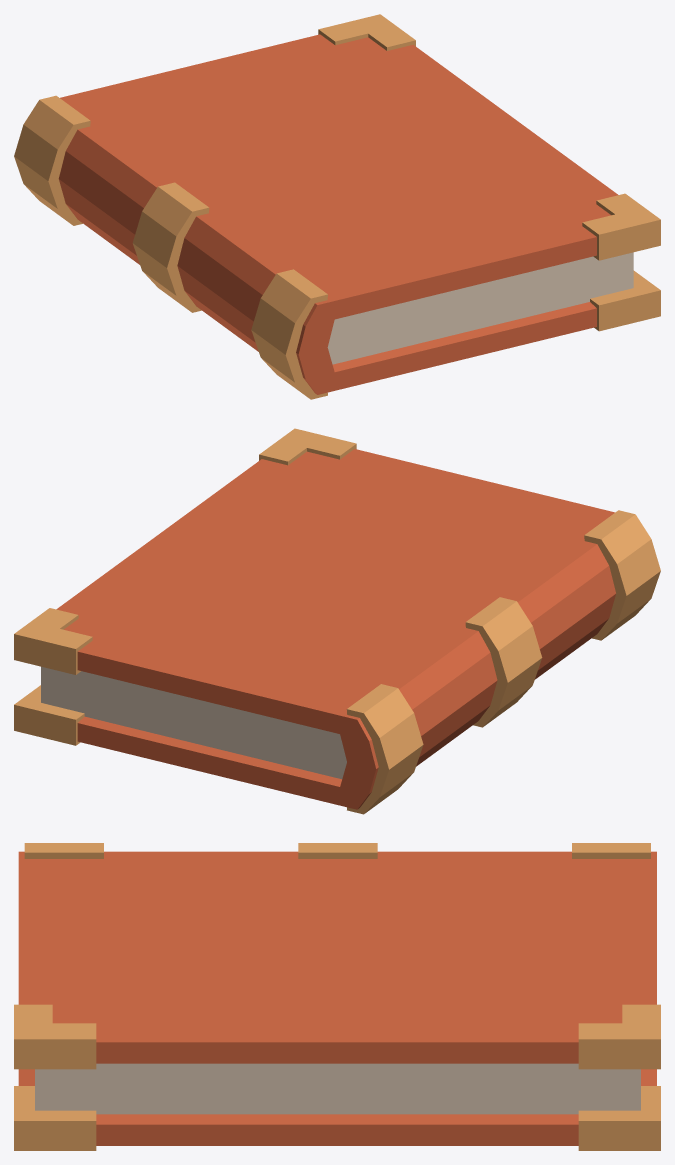
The model's file is Book_03.fbx.
The picture shows the model from 3 angles, top to bottom: view 1: azimuth 30°, elevation 25°; view 2: azimuth 150°, elevation 25°; view 3: azimuth 270°, elevation 25°; orthographic projection. The views are drawn at different scales.
Parts seen in each view (by area): view 1: Book_03; view 2: Book_03; view 3: Book_03.
Part boxes in pixels (bbox=[...]): Book_03: bbox=[14, 14, 660, 399]; Book_03: bbox=[14, 428, 660, 814]; Book_03: bbox=[14, 843, 660, 1150].
Size of the model in its own units: 0.4123 by 0.1076 by 0.5407.
